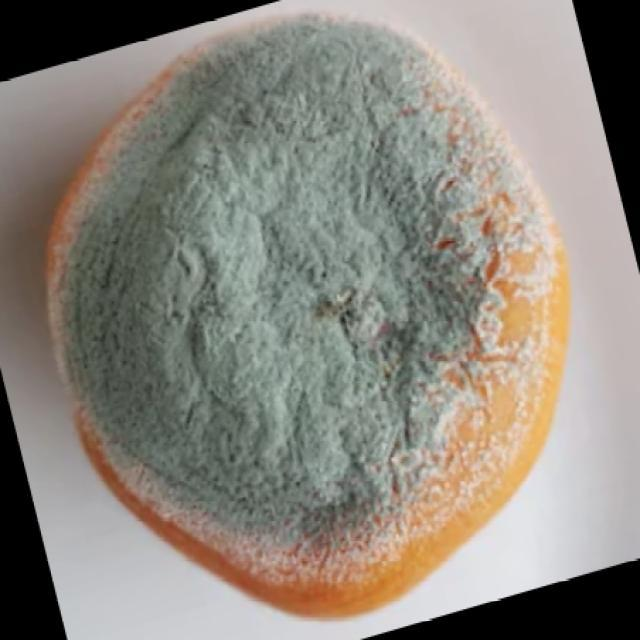sangat-busuk: (49, 14, 567, 613)
